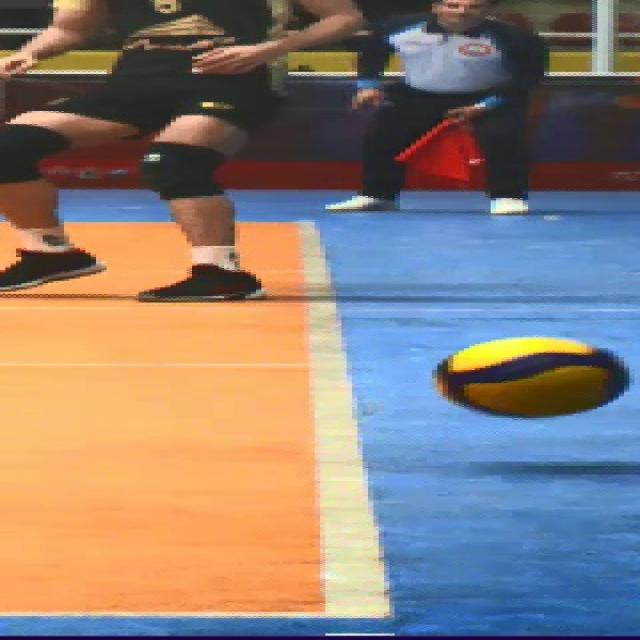Volleyball: (434, 338, 630, 417)
